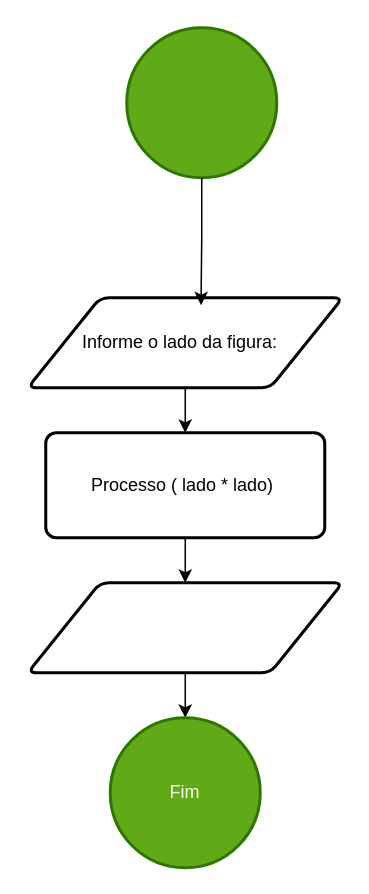
This 369x894 diagram has some shape labels left out. The centre of each missing label's shape, as x and y in pixels:
"Inicio" goes at point 201,102.
"Resultado" goes at point 185,627.
